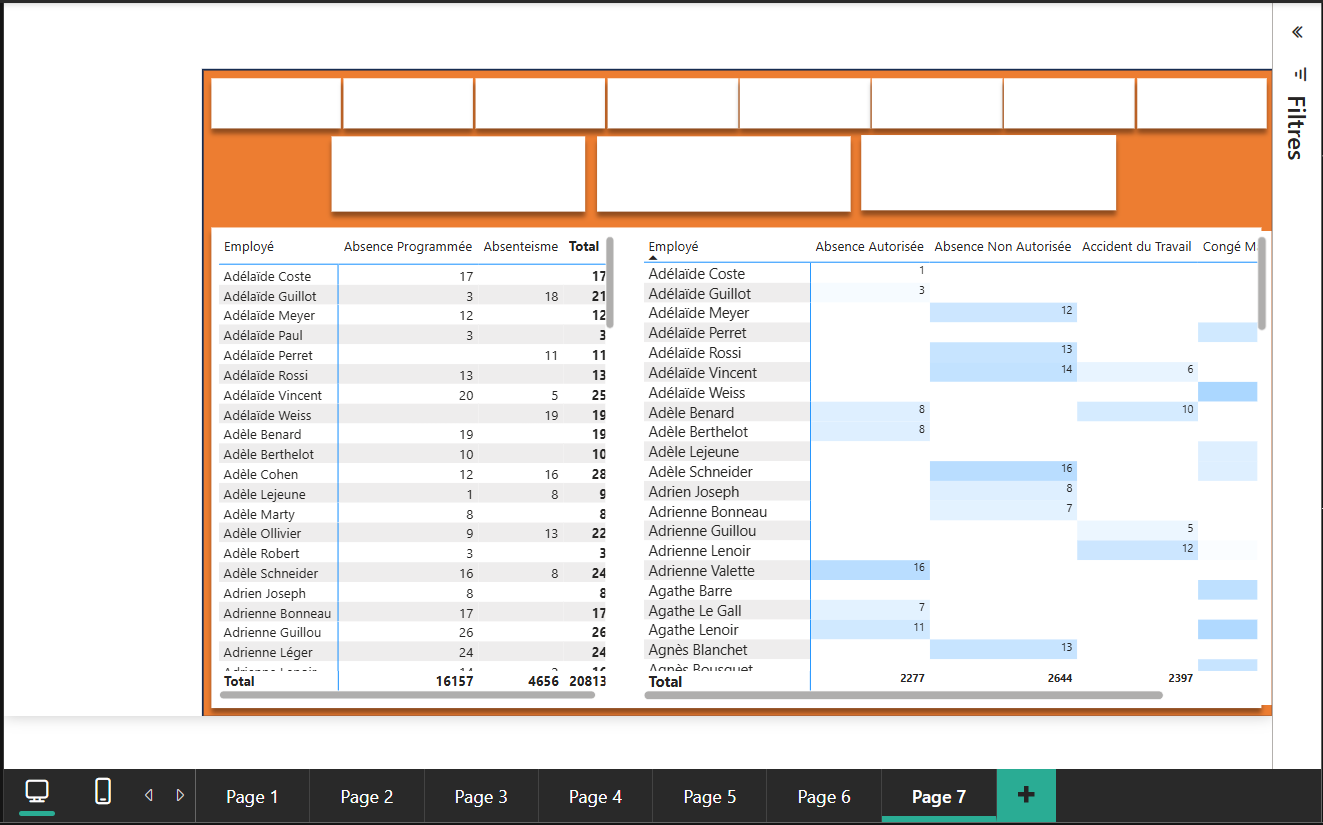

The page's visual inventory and layout, read from the dashboard file:
{"tool":"powerbi","page":{"name":"Page 7","canvas":[1280,720],"ordinal":6},"visuals":[{"type":"pivotTable","fields":{"Columns":["Motif Absence.Motif Absence"],"Values":["Sum(Absences.Jours Absence)"],"Rows":["Employé.Employé"]},"box":[640.6,230.6,638.7,478.1],"z":0},{"type":"pivotTable","fields":{"Rows":["Employé.Employé"],"Columns":["Motif Absence.Type Absence"],"Values":["Sum(Absences.Jours Absence)"]},"box":[212.5,230.1,409,477.7],"z":1000}]}

Visuals, with their boxes on the page's 1280x720 design canvas (x1, y1, x2, y2). These are canvas units, not pixel positions in the 1323x825 screenshot, which may show the page scaled, cropped or inside an application window:
pivotTable - Motif Absence.Motif Absence x Sum(Absences.Jours Absence): x1=641, y1=231, x2=1279, y2=709
pivotTable - Employé.Employé x Motif Absence.Type Absence: x1=212, y1=230, x2=622, y2=708
